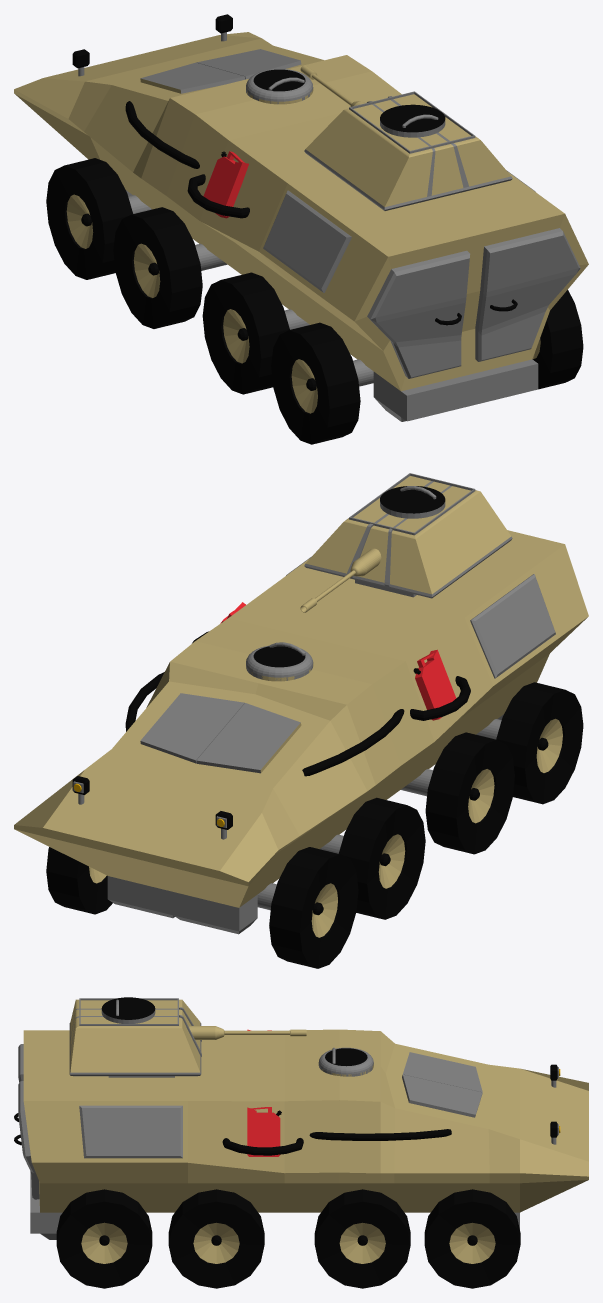
File: Lav-25.fbx
3 views of the same model, one above another, from view 1: azimuth 30°, elevation 25°; view 2: azimuth 150°, elevation 25°; view 3: azimuth 270°, elevation 25° (orthographic). The views are drawn at different scales.
Parts seen in each view (by area): view 1: Cube, Cube.001, Circle.005, Circle.007, Circle.006, Circle.004, Circle.003; view 2: Cube, Cube.001, Circle.006, Circle.004, Circle.005, Circle.007, Circle; view 3: Cube, Cube.001, Circle.003, Circle, Circle.001, Circle.002.
Part boxes in pixels (x1,y1,x2,y2): Cube: [14, 14, 588, 421]; Cube.001: [300, 65, 512, 210]; Circle.005: [271, 322, 360, 444]; Circle.007: [113, 207, 202, 328]; Circle.006: [202, 272, 289, 394]; Circle.004: [46, 158, 132, 279]; Circle.003: [532, 290, 583, 389]; Cube: [14, 530, 588, 934]; Cube.001: [300, 473, 512, 612]; Circle.006: [425, 732, 514, 854]; Circle.004: [269, 847, 358, 968]; Circle.005: [496, 682, 583, 804]; Circle.007: [338, 797, 425, 919]; Circle: [46, 847, 112, 914]; Cube: [14, 1029, 588, 1239]; Cube.001: [69, 997, 306, 1077]; Circle.003: [56, 1189, 152, 1288]; Circle: [424, 1189, 520, 1288]; Circle.001: [314, 1189, 410, 1288]; Circle.002: [168, 1189, 264, 1288].
Bounding box in the file's own units: 331 × 343 × 759.
